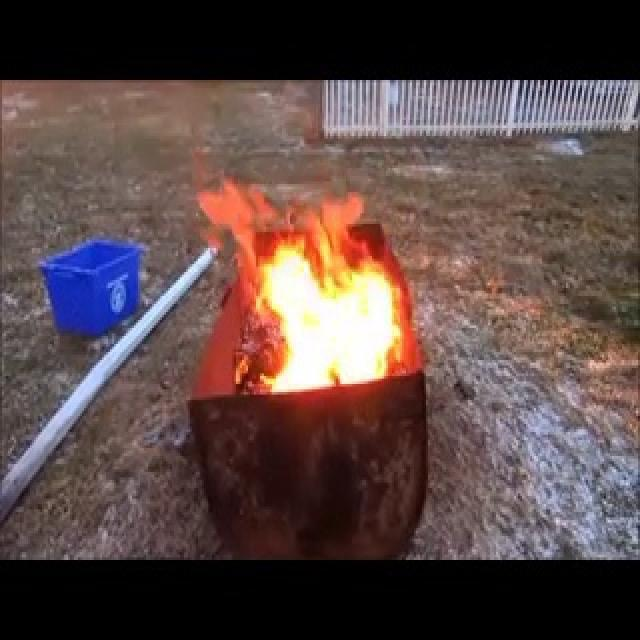fire: (194, 158, 424, 402)
